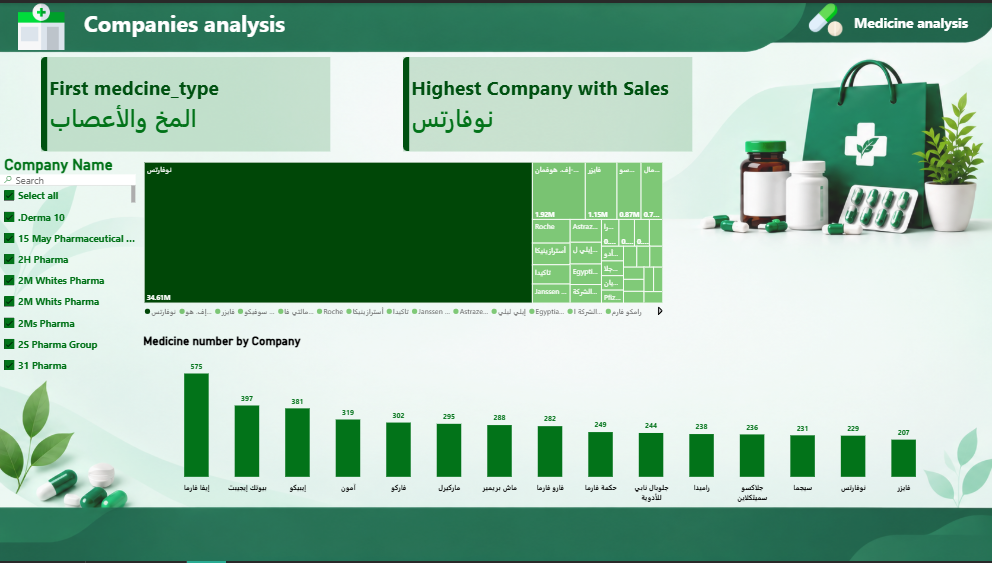

The page's visual inventory and layout, read from the dashboard file:
{"tool":"powerbi","page":{"name":"Companies","canvas":[1920,1080],"ordinal":1},"visuals":[{"type":"image","box":[35,0,90,92.5],"z":0},{"type":"textbox","box":[162.5,10,447.5,72.5],"z":1000},{"type":"image","box":[1542.5,0,110,65],"z":2000},{"type":"textbox","box":[1652.5,20,267.5,55],"z":3000},{"type":"slicer","title":"Medcine","fields":{"Values":["Full Data.company_name"]},"box":[0,296,262,430],"z":4000},{"type":"clusteredColumnChart","title":"Medicine number by Company","fields":{"Category":["Full Data.company_name"],"Y":["CountNonNull(Full Data.medcine_type)"]},"box":[262,628,1608,358],"z":5000},{"type":"treemap","fields":{"Group":["Full Data.company_name"],"Values":["Sum(Full Data.price_now)"]},"box":[262.5,295,1035,332.5],"z":6000},{"type":"cardVisual","fields":{"Data":["Min(Full Data.company_name)"]},"box":[780,105,560,182.5],"z":8000},{"type":"actionButton","box":[1552.5,0,367.5,82.5],"z":9000},{"type":"cardVisual","fields":{"Data":["Min(Full Data.medcine_type)"]},"box":[80,105,560,182.5],"z":9001}]}

Visuals, with their boxes in screenshot pixels (x1, y1, x2, y2), scaled from the page's 1920x1080 canvas onto the 992x563 screenshot:
image: locate(18, 0, 65, 48)
textbox: locate(84, 5, 315, 43)
image: locate(797, 0, 854, 34)
textbox: locate(854, 10, 991, 39)
"Medcine" slicer: locate(0, 154, 135, 378)
"Medicine number by Company" clusteredColumnChart: locate(135, 327, 966, 514)
treemap - Full Data.company_name x Sum(Full Data.price_now): locate(136, 154, 670, 327)
cardVisual - Min(Full Data.company_name): locate(403, 55, 692, 150)
actionButton: locate(802, 0, 991, 43)
cardVisual - Min(Full Data.medcine_type): locate(41, 55, 331, 150)
